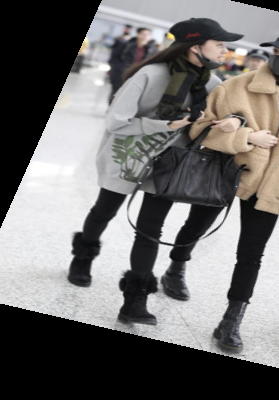mask_weared_incorrect: (168, 15, 247, 85)
